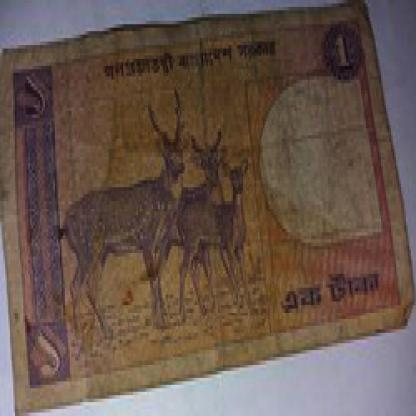One Taka: (281, 267, 381, 315), (27, 330, 70, 382), (13, 73, 52, 121), (328, 28, 356, 76)
